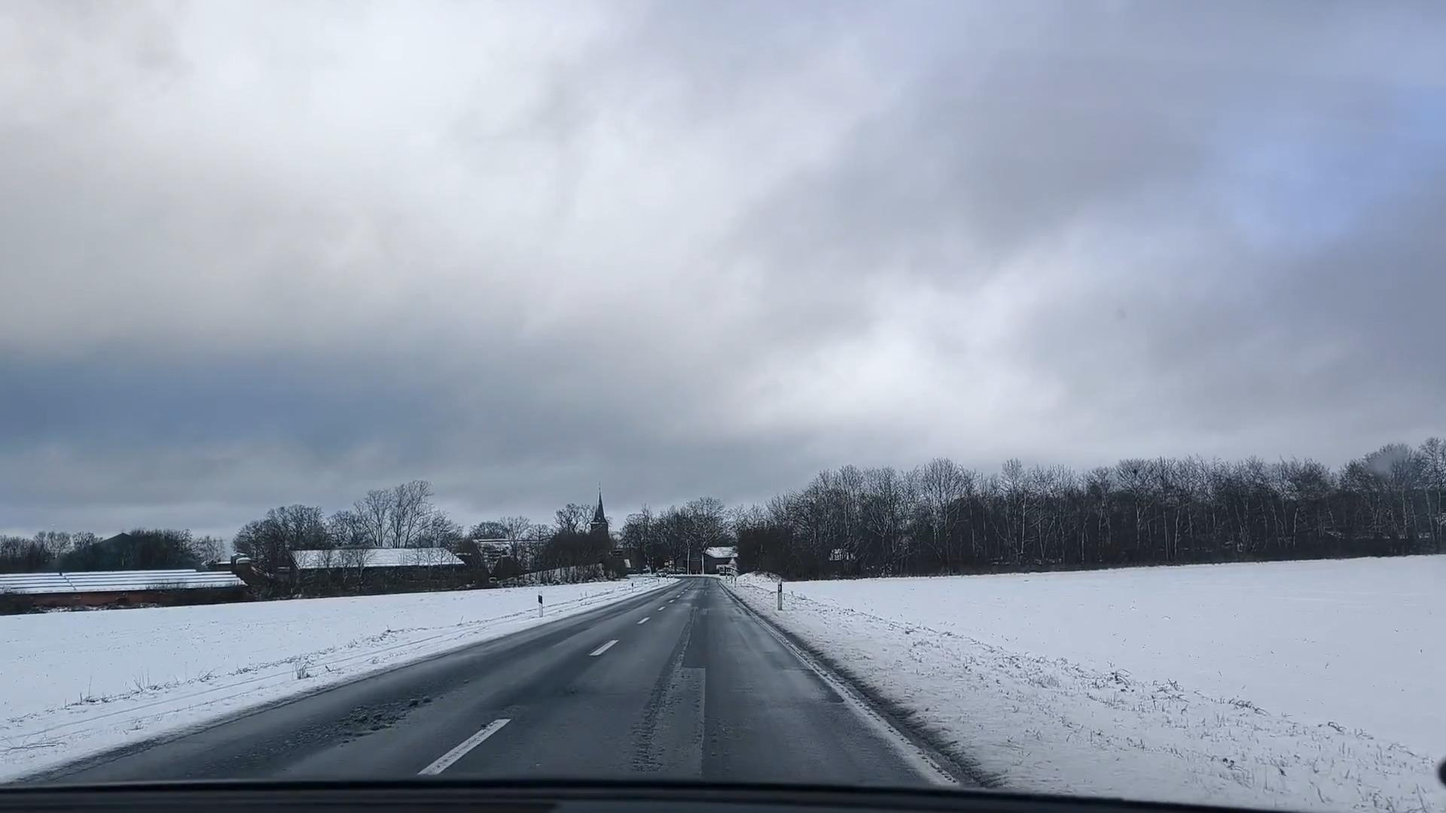Snow: (728, 555, 1446, 813), (0, 577, 668, 783)
wet: (9, 577, 972, 786)
